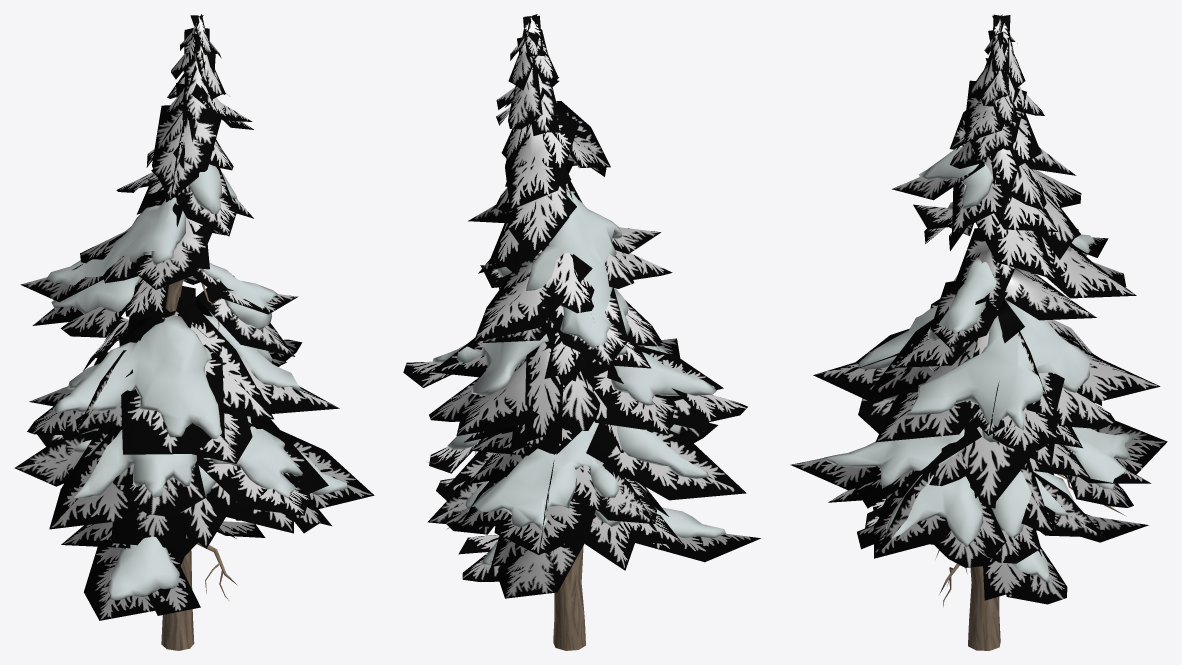
File: P_PineSnowCover01.obj
3 views of the same model, side by side, from view 1: azimuth 30°, elevation 25°; view 2: azimuth 150°, elevation 25°; view 3: azimuth 270°, elevation 25° (orthographic). The views are drawn at different scales.
Size of the model in its own units: 8.22 by 15.85 by 8.43.
